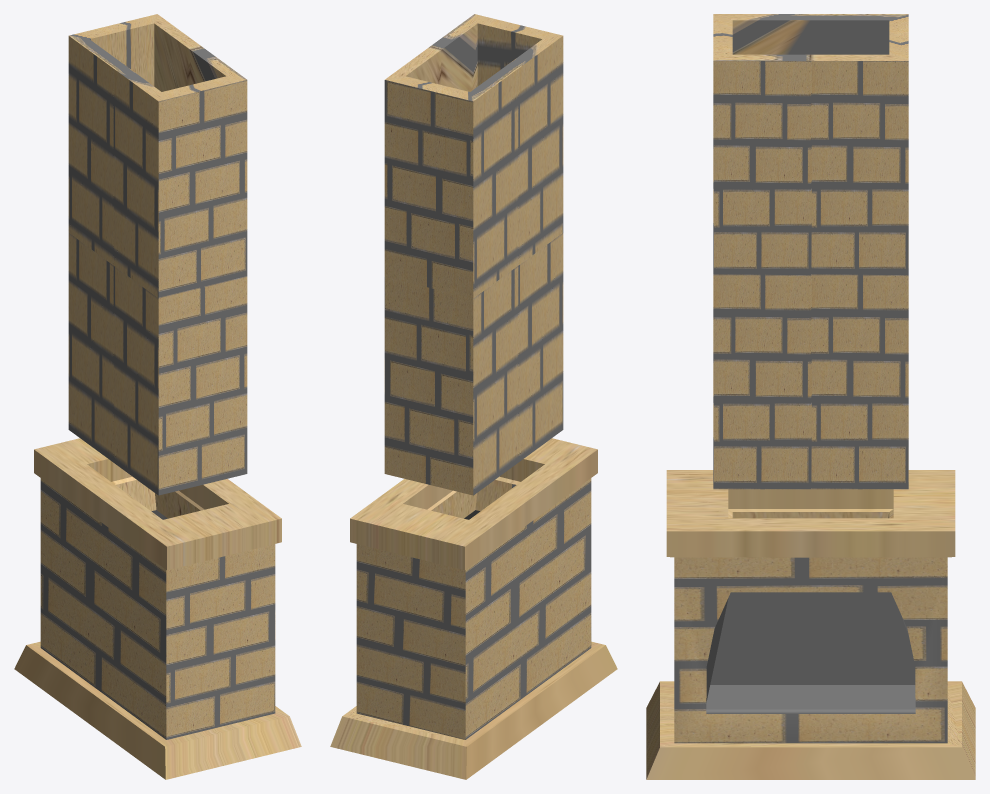
Rendered from fireplace.fbx.
3 renders of one model, left to right at view 1: azimuth 30°, elevation 25°; view 2: azimuth 150°, elevation 25°; view 3: azimuth 270°, elevation 25°, orthographic. The views are drawn at different scales.
Parts seen in each view (by area): view 1: pCube3, pCube4; view 2: pCube3, pCube4; view 3: pCube3, pCube4.
Part boxes in pixels (left/top/right/bottom): pCube3: left=68, top=14, right=247, bottom=495; pCube4: left=14, top=438, right=301, bottom=779; pCube3: left=384, top=14, right=563, bottom=495; pCube4: left=330, top=438, right=617, bottom=779; pCube3: left=713, top=14, right=908, bottom=489; pCube4: left=646, top=470, right=975, bottom=779.
Size of the model in its own units: 4.99 by 22.81 by 9.64.
1 material, 1 textured.
